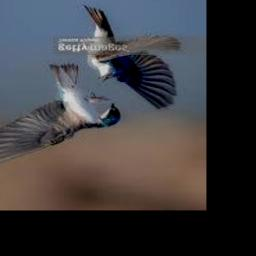Swallow: (0, 64, 121, 172), (84, 7, 180, 109)
